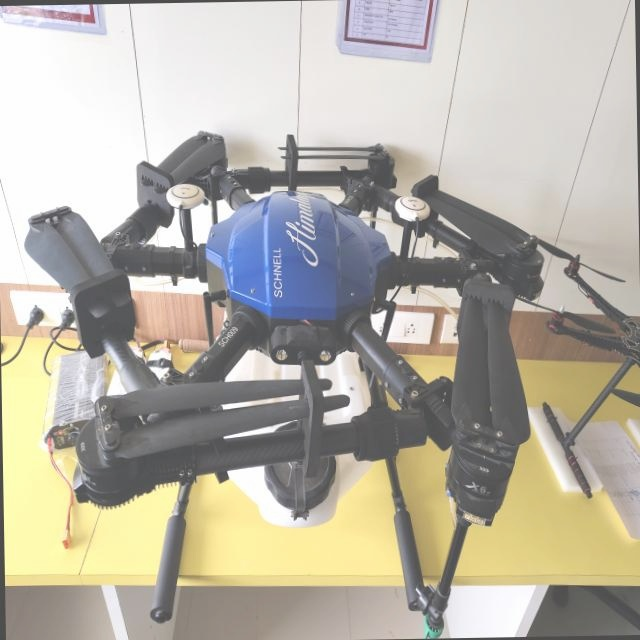agriculturedrone: (16, 113, 595, 640)
